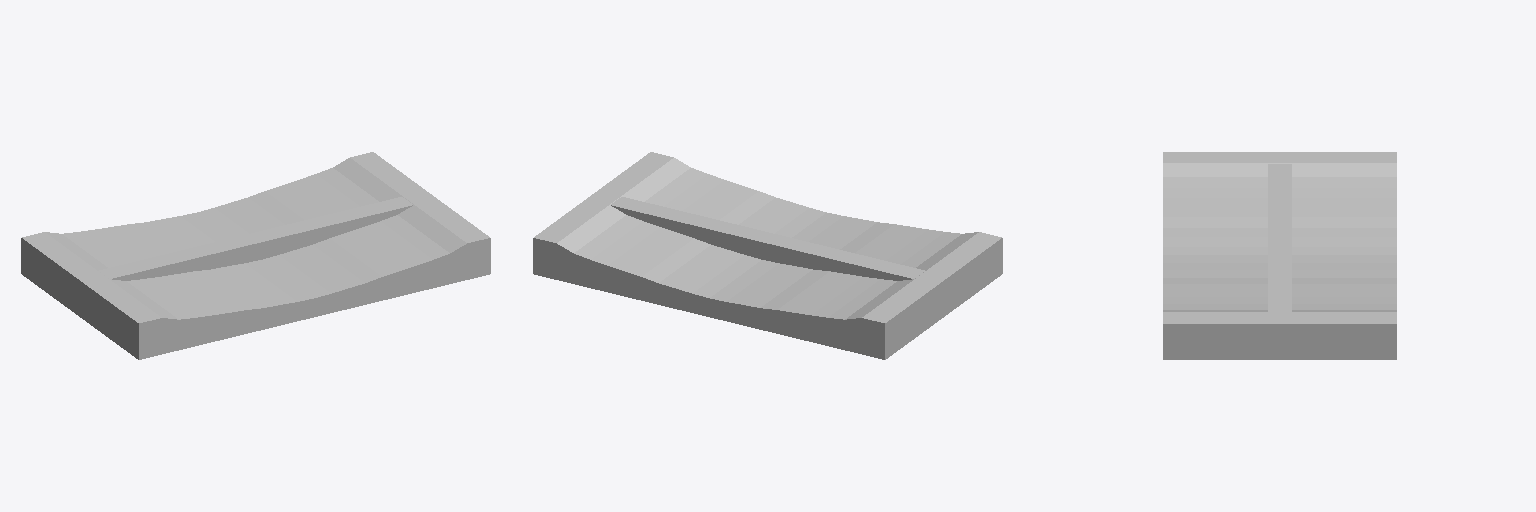
File: Ceiling.obj
The picture shows the model from 3 angles: view 1: azimuth 30°, elevation 25°; view 2: azimuth 150°, elevation 25°; view 3: azimuth 270°, elevation 25°; orthographic projection.
Parts seen in each view (by area): view 1: polySurface20; view 2: polySurface20; view 3: polySurface20.
Boxes of the visible parts, x1,y1,x2,y2 form: polySurface20: [21, 152, 490, 359]; polySurface20: [533, 152, 1002, 359]; polySurface20: [1163, 152, 1396, 359].
Bounding box in the file's own units: 17.3 × 1.72 × 10.